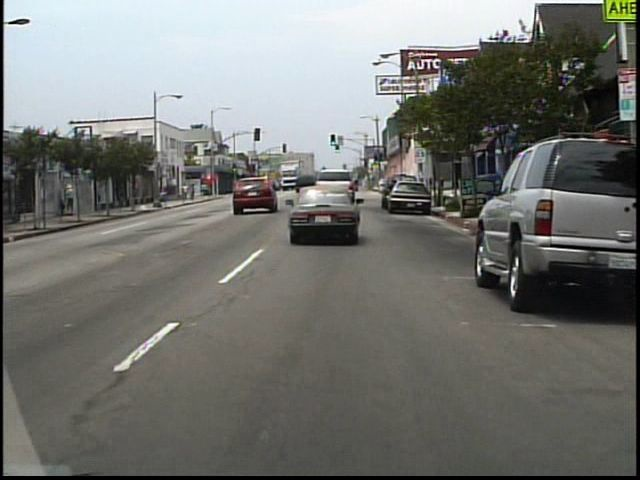person: (67, 183, 79, 216)
